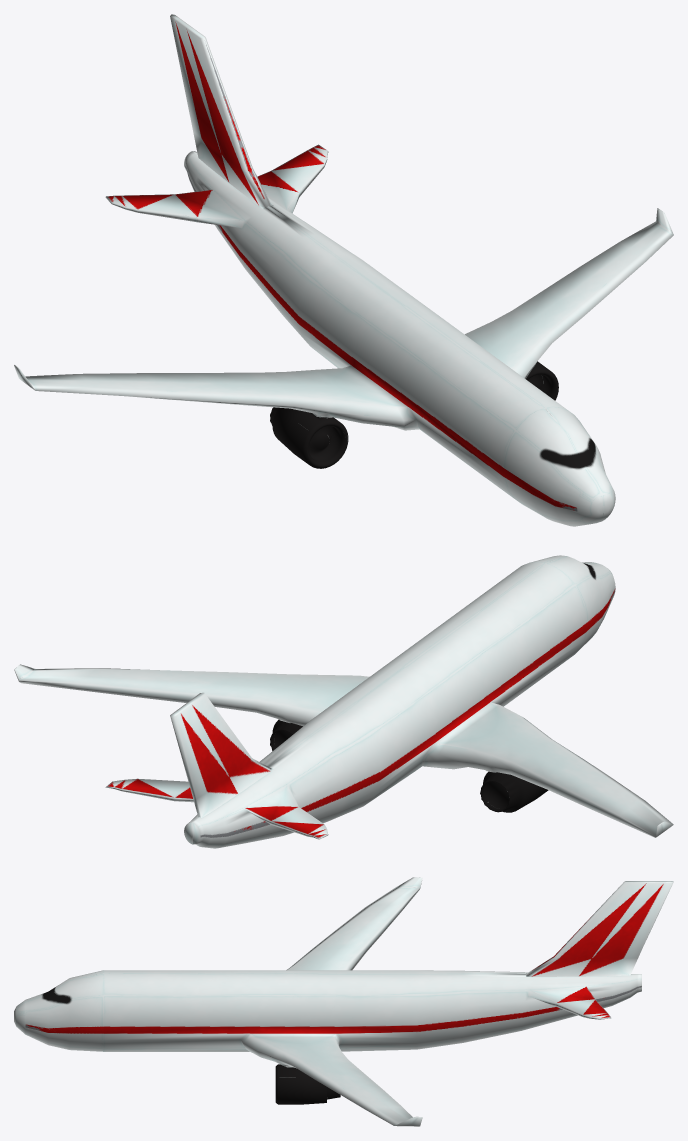
3 renders of one model, top to bottom at view 1: azimuth 30°, elevation 25°; view 2: azimuth 150°, elevation 25°; view 3: azimuth 270°, elevation 25°, orthographic. The views are drawn at different scales.
Parts seen in each view (by area): view 1: Object; view 2: Object; view 3: Object.
Part boxes in pixels (box(x1,y1,x2,y2)): Object: box(14, 14, 673, 526); Object: box(14, 555, 673, 848); Object: box(14, 877, 673, 1126).
Size of what is drawn, in the model's own units: 53.7 by 19 by 62.44.
1 material, 1 textured.
